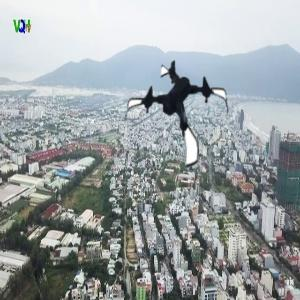drone: (123, 59, 234, 170)
